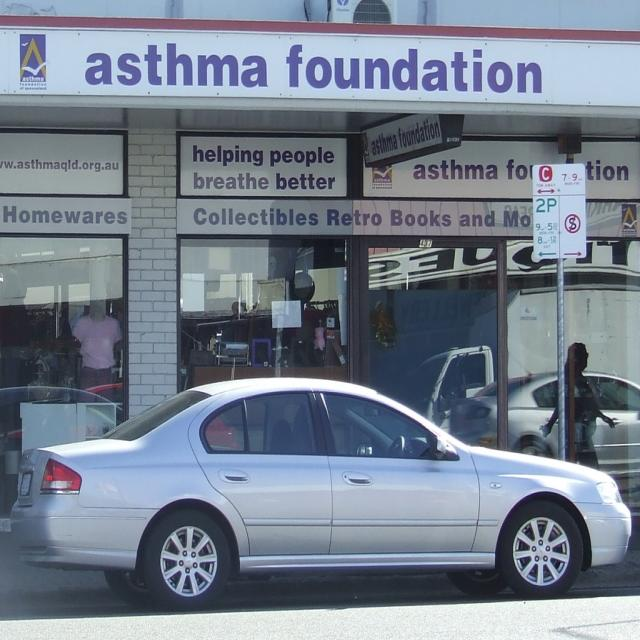car: (19, 379, 631, 614)
